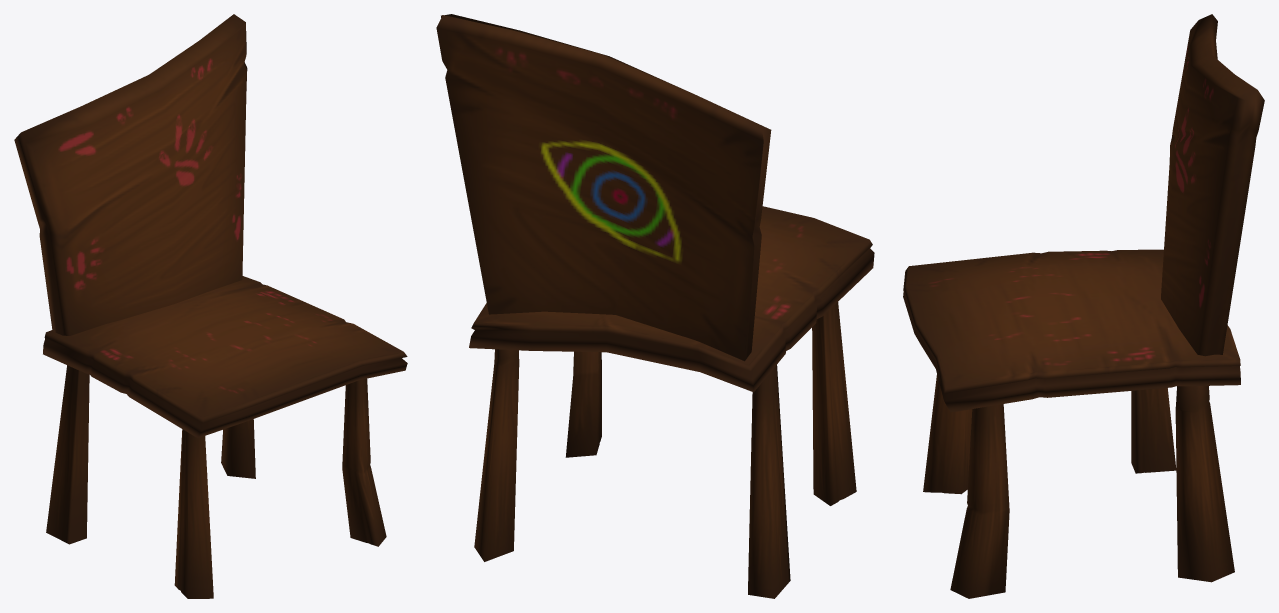
Rendered from Chair_Wake.fbx.
The picture shows the model from 3 angles, left to right: view 1: azimuth 30°, elevation 25°; view 2: azimuth 150°, elevation 25°; view 3: azimuth 270°, elevation 25°; orthographic projection. The views are drawn at different scales.
Visible parts, largest first — view 1: chair; view 2: chair; view 3: chair.
Boxes of the visible parts, left/top/right/bottom form: chair: left=14, top=14, right=407, bottom=598; chair: left=436, top=14, right=874, bottom=598; chair: left=903, top=14, right=1264, bottom=598.
Size of the model in its own units: 9.08 by 13.83 by 9.16.
Materials: 1 (1 with a texture image).
